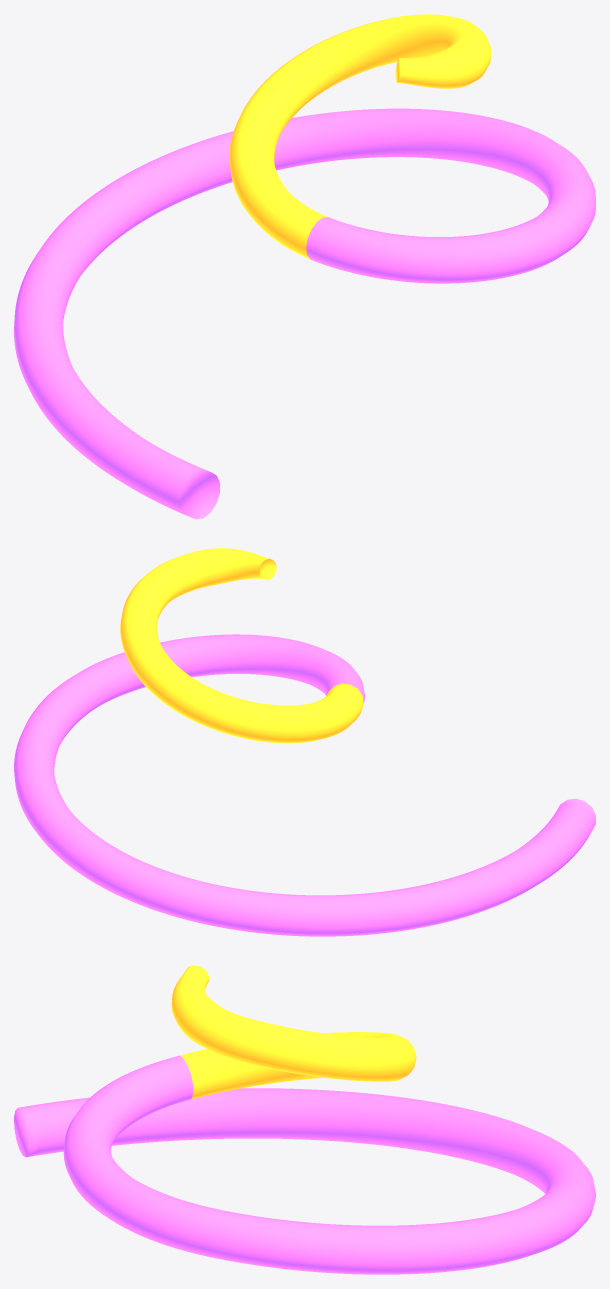
File: scaphokogia_noodle.glb
The picture shows the model from 3 angles, top to bottom: view 1: azimuth 30°, elevation 25°; view 2: azimuth 150°, elevation 25°; view 3: azimuth 270°, elevation 25°; orthographic projection. The views are drawn at different scales.
Parts seen in each view (by area): view 1: Scaphokogia | TURN COUNT NOODLE | T00_100, Scaphokogia | TURN COUNT NOODLE | T100_200; view 2: Scaphokogia | TURN COUNT NOODLE | T00_100, Scaphokogia | TURN COUNT NOODLE | T100_200; view 3: Scaphokogia | TURN COUNT NOODLE | T00_100, Scaphokogia | TURN COUNT NOODLE | T100_200.
Boxes of the visible parts, box(x1,y1,x2,y2) form: Scaphokogia | TURN COUNT NOODLE | T00_100: box(14, 108, 595, 519); Scaphokogia | TURN COUNT NOODLE | T100_200: box(229, 14, 491, 259); Scaphokogia | TURN COUNT NOODLE | T00_100: box(14, 634, 595, 936); Scaphokogia | TURN COUNT NOODLE | T100_200: box(120, 548, 363, 743); Scaphokogia | TURN COUNT NOODLE | T00_100: box(14, 1055, 595, 1274); Scaphokogia | TURN COUNT NOODLE | T100_200: box(171, 965, 416, 1098).
Bounding box in the file's own units: 7.28 × 4.21 × 6.75.
